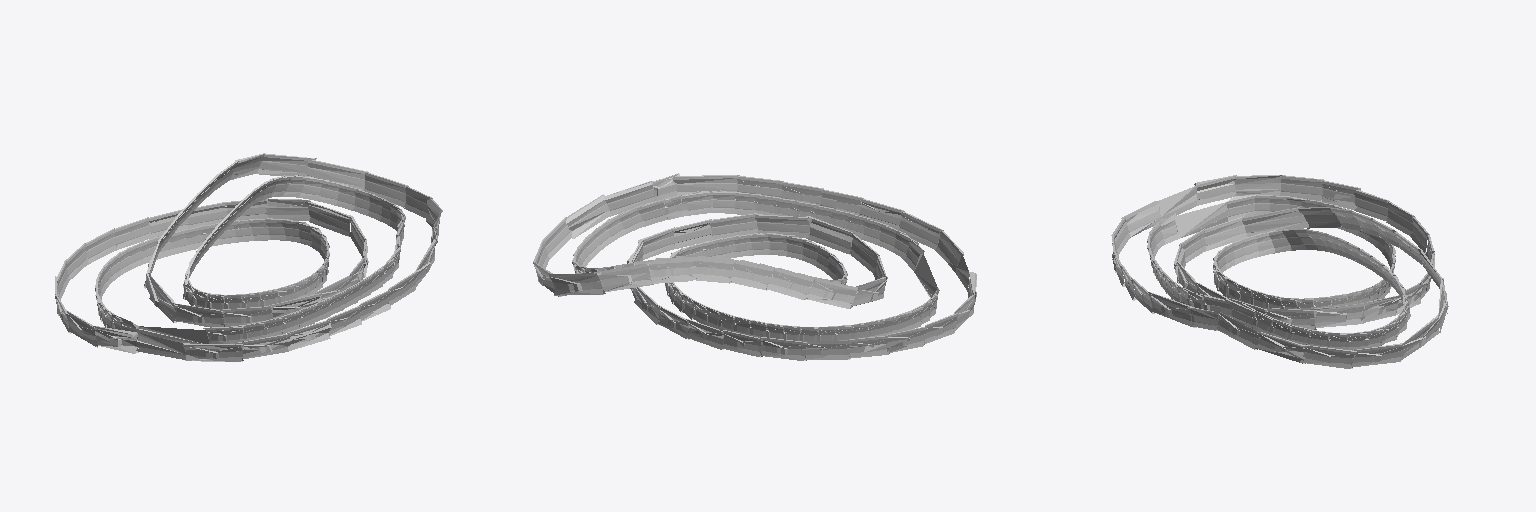
The model's file is text_one.obj.
3 views of the same model, side by side, from view 1: azimuth 30°, elevation 25°; view 2: azimuth 150°, elevation 25°; view 3: azimuth 270°, elevation 25° (orthographic).
Bounding box in the file's own units: 199 × 35.7 × 153.